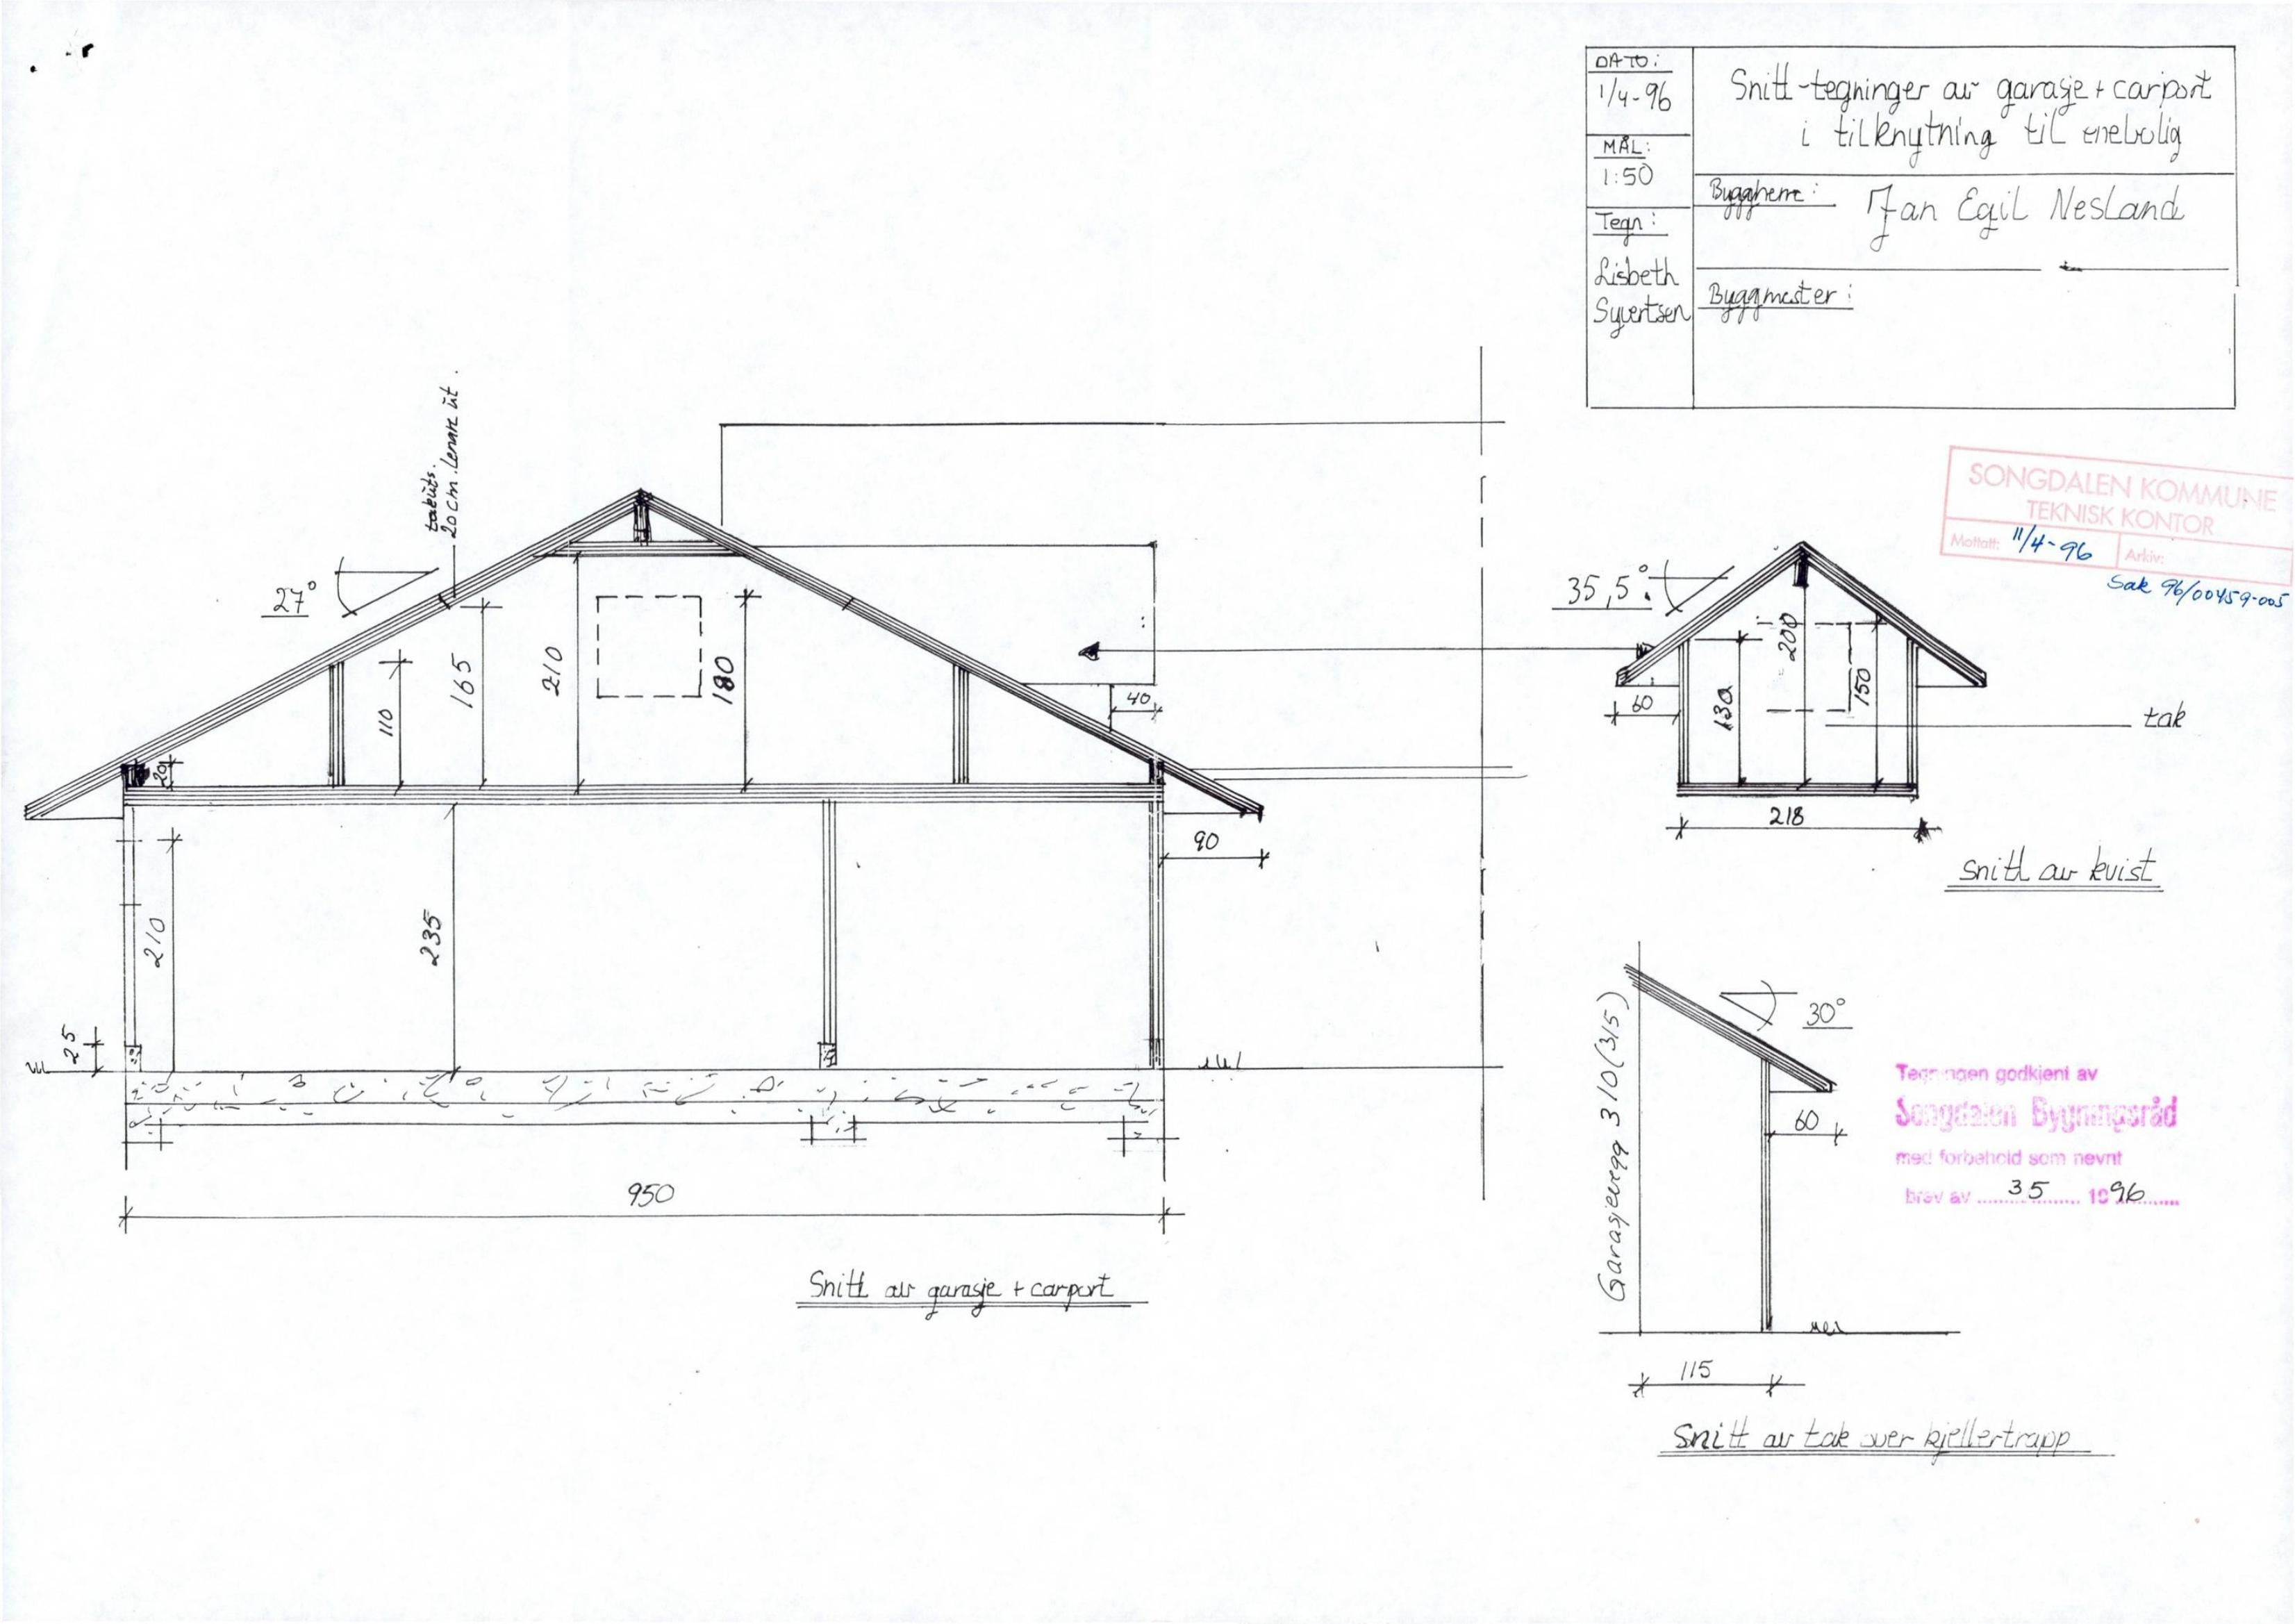snitt: (15, 424, 1407, 1229), (1550, 900, 1871, 1404), (1530, 511, 2018, 843)
